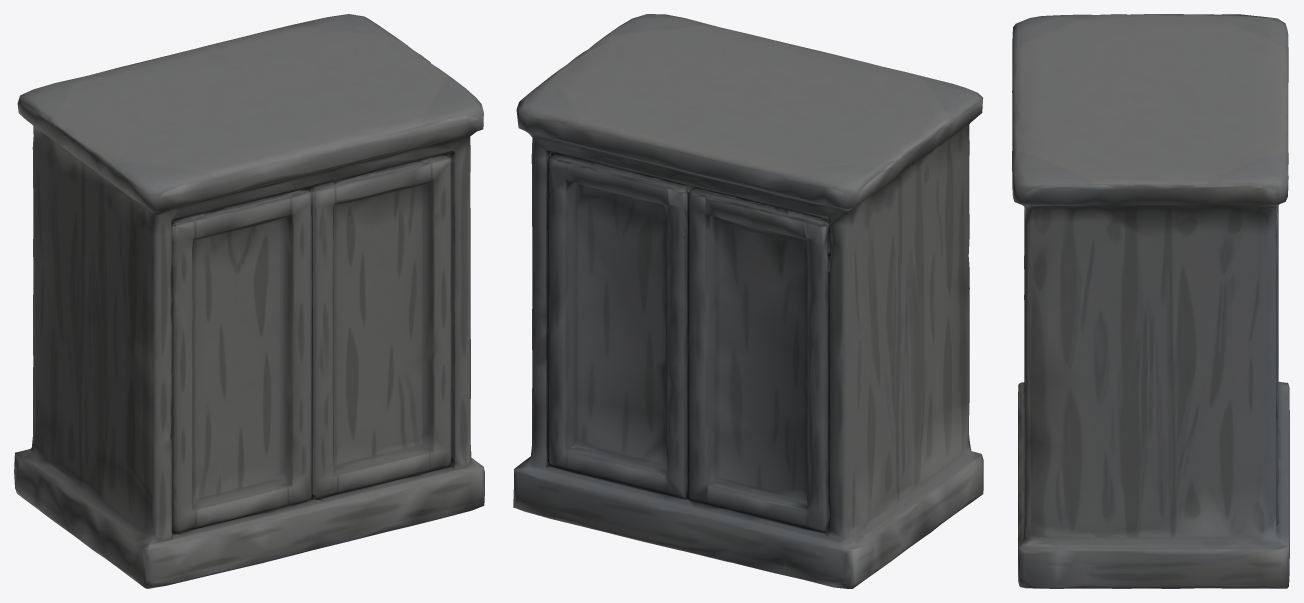
Rendered from Gray_Cabinet_Still_Li_1109143254_texture.glb.
The picture shows the model from 3 angles, left to right: view 1: azimuth 30°, elevation 25°; view 2: azimuth 150°, elevation 25°; view 3: azimuth 270°, elevation 25°; orthographic projection.
Bounding box in the file's own units: 1.71 × 1.91 × 1.17.
Materials: 1 (1 with a texture image).
